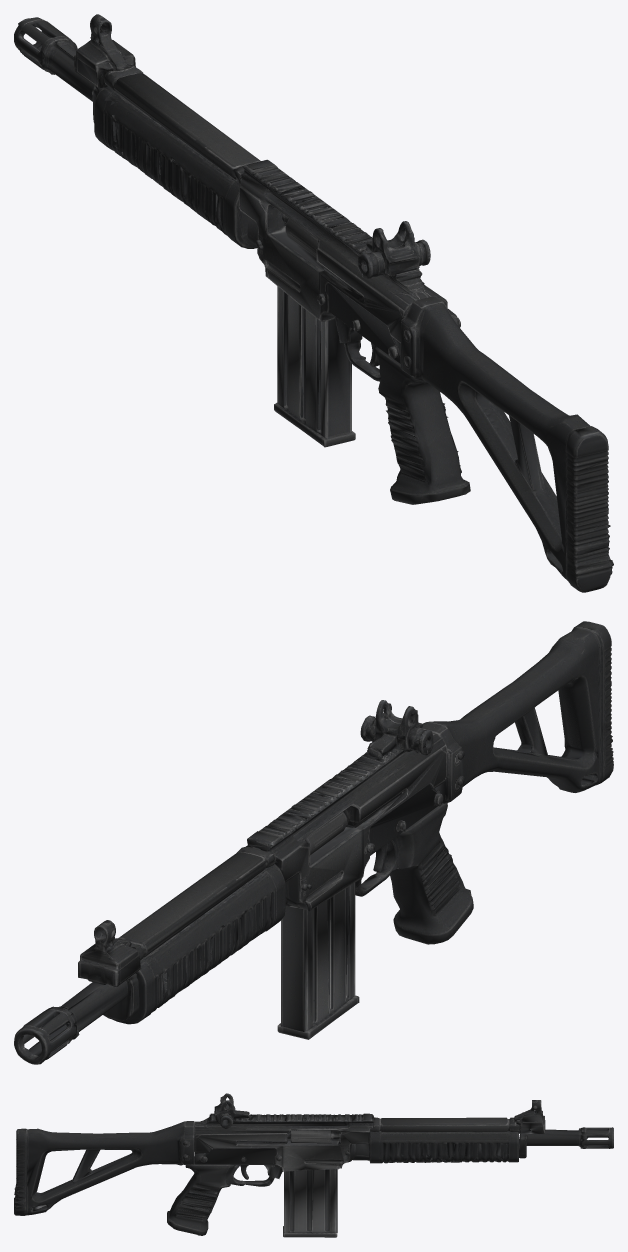
The model's file is weapon-thresher.glb.
3 renders of one model, top to bottom at view 1: azimuth 30°, elevation 25°; view 2: azimuth 150°, elevation 25°; view 3: azimuth 270°, elevation 25°, orthographic. The views are drawn at different scales.
Visible parts, largest first — view 1: thresher, Magazine; view 2: thresher, Magazine; view 3: thresher, Magazine.
Part boxes in pixels (<box>): thresher: <box>14,14,613,592</box>; Magazine: <box>274,286,355,447</box>; thresher: <box>14,621,613,1064</box>; Magazine: <box>277,883,359,1039</box>; thresher: <box>14,1093,613,1235</box>; Magazine: <box>279,1167,337,1237</box>.
Size of the model in its own units: 0.063 by 0.2512 by 1.
Materials: 1 (1 with a texture image).
